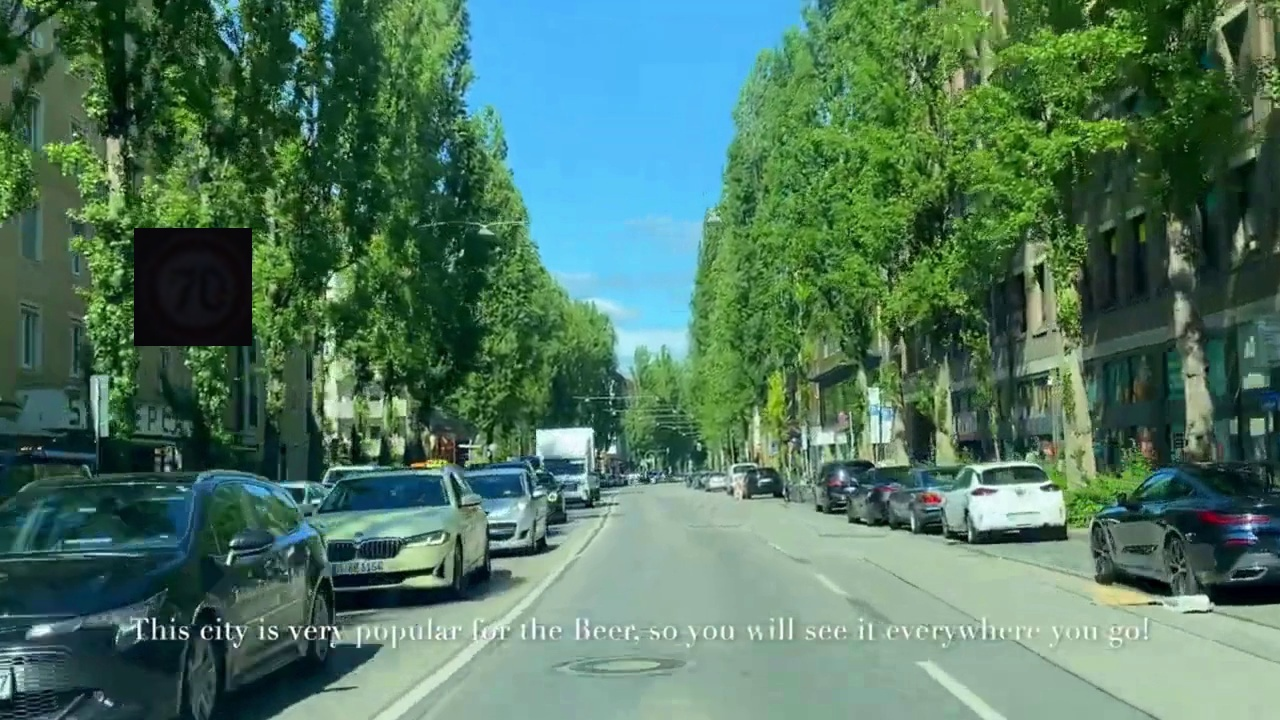Speed 70: (134, 228, 252, 346)
